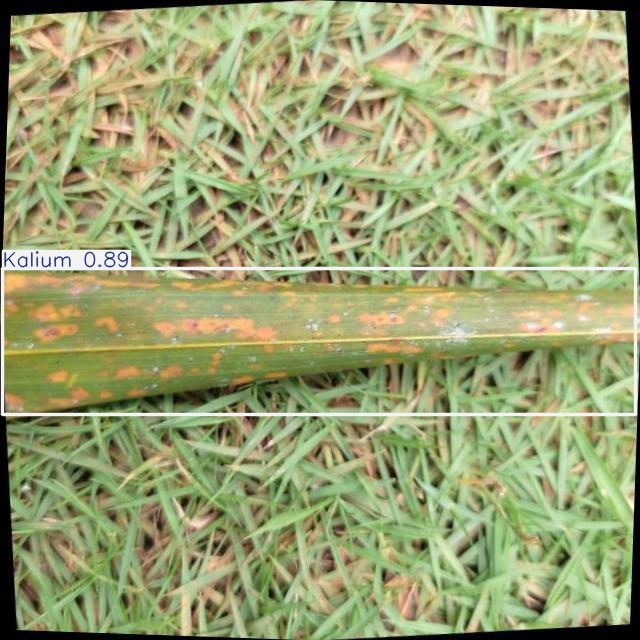Kalium: (3, 268, 636, 415)
